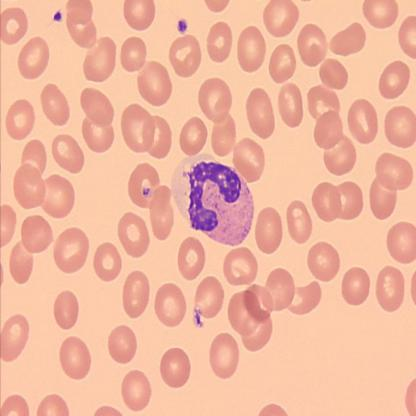Band Neutrophil: (168, 150, 255, 249)
